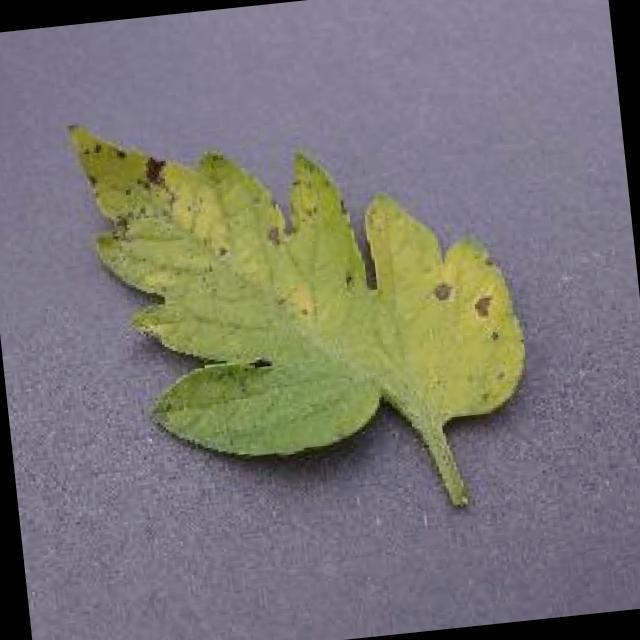Tomato Septoria spot leaf: (65, 77, 532, 475)
